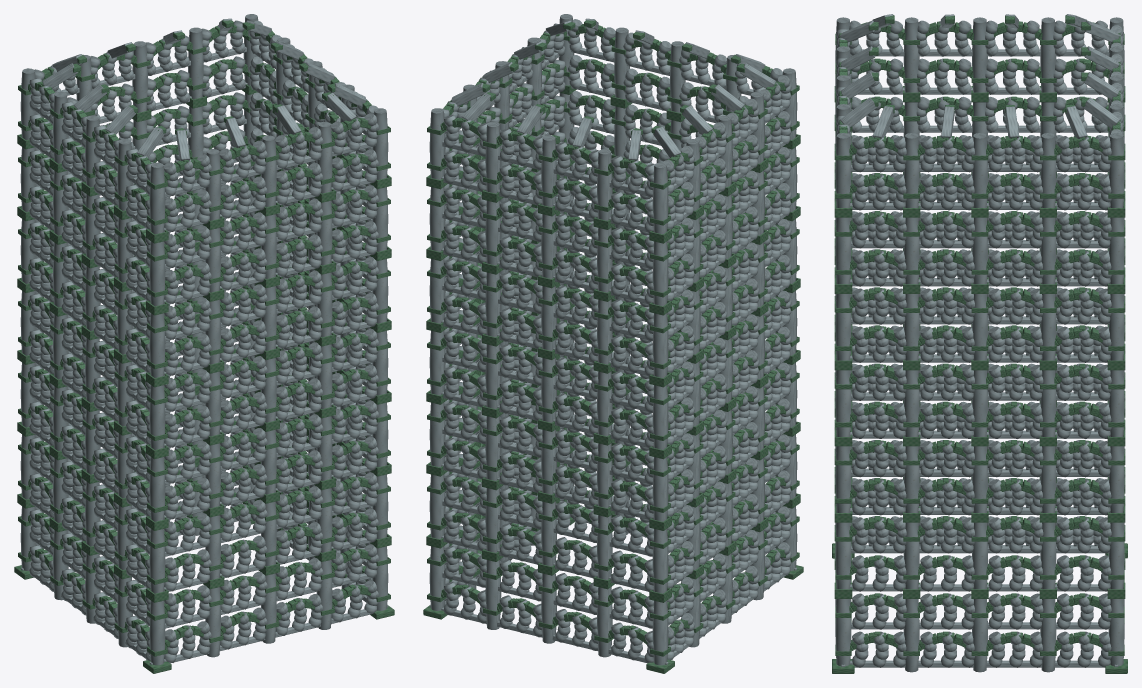
3 renders of one model, left to right at view 1: azimuth 30°, elevation 25°; view 2: azimuth 150°, elevation 25°; view 3: azimuth 270°, elevation 25°, orthographic. The views are drawn at different scales.
Visible parts, largest first — view 1: Tier 6 side 0 post 0, Tier 0 side 0 post 0, Tier 5 side 0 post 0, Tier 6 side 2 post 1, Tier 3 side 0 post 0, Tier 1 side 0 post 0, Tier 2 side 0 post 0, Tier 4 side 0 post 0, Tier 6 side 2 post 2, Tier 6 side 0 post 3, Tier 6 side 0 post 2, Tier 6 side 0 post 1 (+46 smaller); view 2: Tier 6 side 3 post 0, Tier 6 side 2 post 0, Tier 6 side 2 post 1, Tier 5 side 3 post 0, Tier 6 side 2 post 2, Tier 0 side 3 post 0, Tier 3 side 3 post 0, Tier 1 side 3 post 0, Tier 4 side 3 post 0, Tier 2 side 3 post 0, Tier 6 side 2 post 3, Tier 0 side 2 post 1 (+25 smaller); view 3: Tier 6 side 1 post 0, Tier 6 side 2 post 0, Tier 6 side 3 post 3, Tier 6 side 3 post 1, Tier 6 side 1 post 1, Tier 6 side 1 post 3, Tier 1 side 1 post 0, Tier 5 side 1 post 0, Tier 6 side 3 post 2, Tier 6 side 1 post 2, Tier 2 side 1 post 0, Tier 3 side 1 post 0 (+30 smaller).
Boxes of the visible parts, <box> form: Tier 6 side 0 post 0: <box>149,162,165,234</box>; Tier 0 side 0 post 0: <box>149,600,165,665</box>; Tier 5 side 0 post 0: <box>149,241,165,306</box>; Tier 6 side 2 post 1: <box>188,27,203,99</box>; Tier 3 side 0 post 0: <box>149,385,165,449</box>; Tier 1 side 0 post 0: <box>149,529,165,593</box>; Tier 2 side 0 post 0: <box>149,457,165,521</box>; Tier 4 side 0 post 0: <box>149,313,165,377</box>; Tier 6 side 2 post 2: <box>132,41,147,112</box>; Tier 6 side 0 post 3: <box>316,122,332,193</box>; Tier 6 side 0 post 2: <box>261,135,276,207</box>; Tier 6 side 0 post 1: <box>205,149,220,220</box>; Tier 6 side 3 post 0: <box>652,162,668,234</box>; Tier 6 side 2 post 0: <box>429,108,445,179</box>; Tier 6 side 2 post 1: <box>485,122,501,193</box>; Tier 5 side 3 post 0: <box>652,241,668,306</box>; Tier 6 side 2 post 2: <box>541,135,556,207</box>; Tier 0 side 3 post 0: <box>652,600,668,665</box>; Tier 3 side 3 post 0: <box>652,385,668,449</box>; Tier 1 side 3 post 0: <box>652,529,668,593</box>; Tier 4 side 3 post 0: <box>652,313,668,377</box>; Tier 2 side 3 post 0: <box>652,457,668,521</box>; Tier 6 side 2 post 3: <box>597,149,612,220</box>; Tier 0 side 2 post 1: <box>485,560,501,629</box>; Tier 6 side 1 post 0: <box>835,133,851,207</box>; Tier 6 side 2 post 0: <box>1108,133,1124,207</box>; Tier 6 side 3 post 3: <box>903,17,919,92</box>; Tier 6 side 3 post 1: <box>1040,17,1056,92</box>; Tier 6 side 1 post 1: <box>903,133,919,207</box>; Tier 6 side 1 post 3: <box>1040,133,1056,207</box>; Tier 1 side 1 post 0: <box>835,522,851,589</box>; Tier 5 side 1 post 0: <box>835,217,851,284</box>; Tier 6 side 3 post 2: <box>972,17,987,92</box>; Tier 6 side 1 post 2: <box>972,133,987,207</box>; Tier 2 side 1 post 0: <box>835,446,851,512</box>; Tier 3 side 1 post 0: <box>835,370,851,436</box>.
Size of the model in its own units: 1.95 by 4.01 by 1.95.
2 materials, 2 textured.
